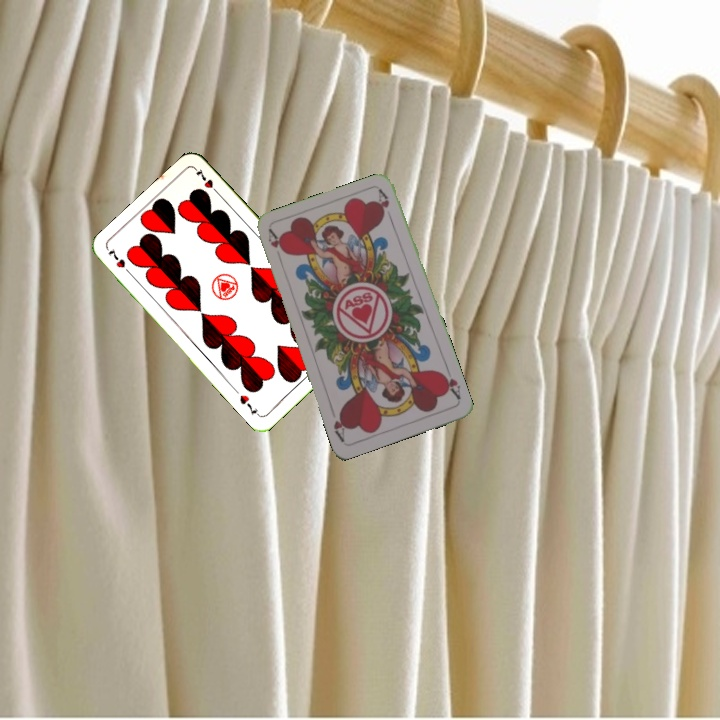H7: (104, 244, 134, 278)
HA: (436, 364, 463, 403), (264, 226, 288, 266)
